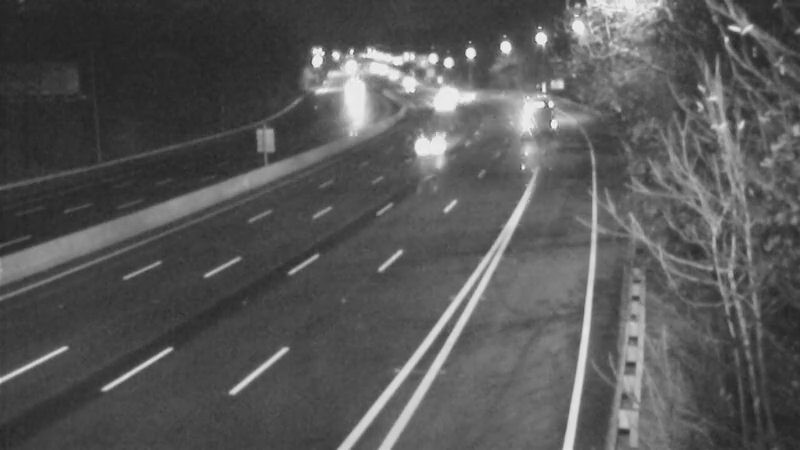vehicle: (379, 55, 429, 105), (422, 66, 472, 116), (443, 72, 493, 122), (421, 82, 471, 132), (510, 90, 560, 140), (404, 118, 454, 168), (329, 70, 379, 120)
